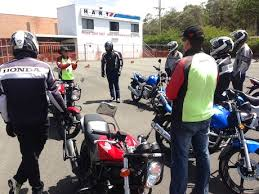helmet: (10, 30, 40, 58)
